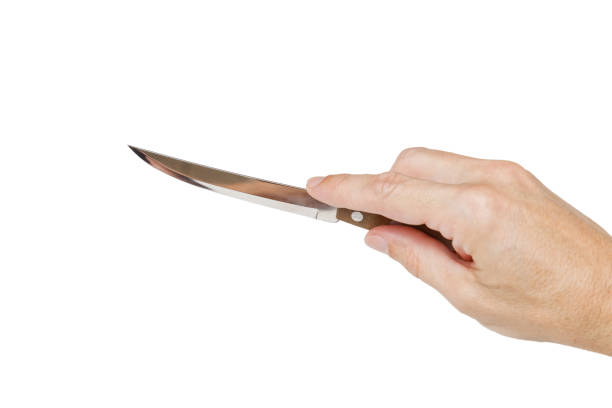knife: (125, 142, 342, 225)
